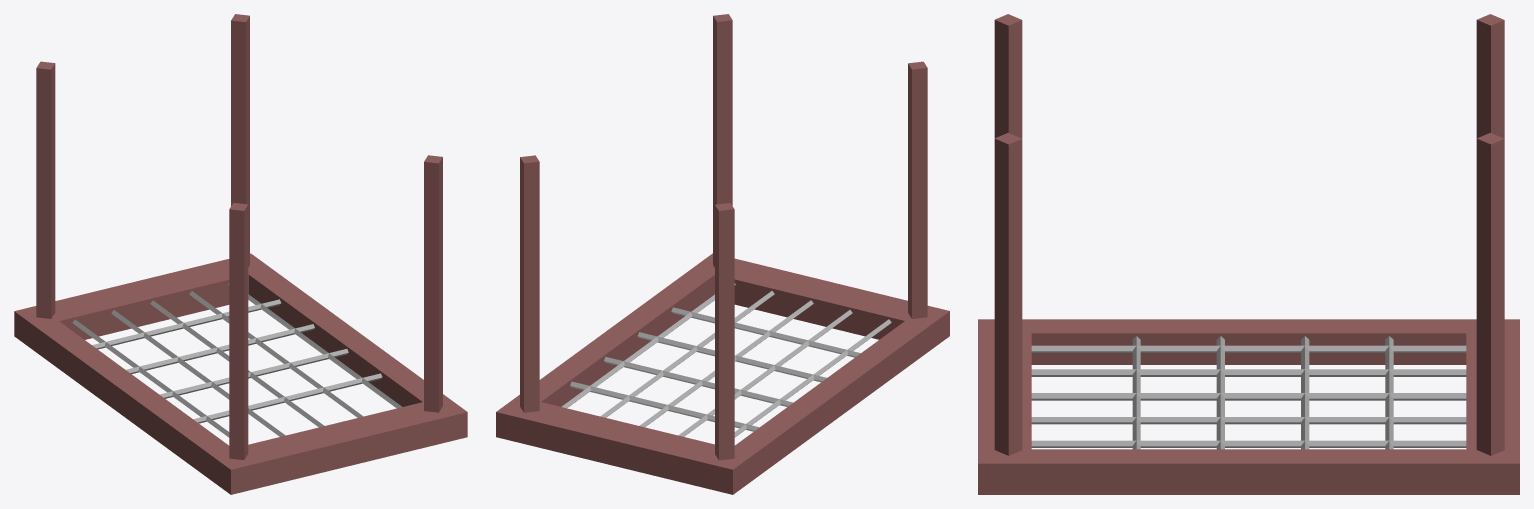
The model's file is CeilingHungRack2.fbx.
The picture shows the model from 3 angles, left to right: view 1: azimuth 30°, elevation 25°; view 2: azimuth 150°, elevation 25°; view 3: azimuth 270°, elevation 25°; orthographic projection. The views are drawn at different scales.
Parts seen in each view (by area): view 1: CeilingHungRack2; view 2: CeilingHungRack2; view 3: CeilingHungRack2.
Part boxes in pixels (x1,y1,x2,y2): CeilingHungRack2: (14,14,467,494); CeilingHungRack2: (496,14,949,494); CeilingHungRack2: (978,14,1519,494).
Bounding box in the file's own units: 122 × 135 × 193.
